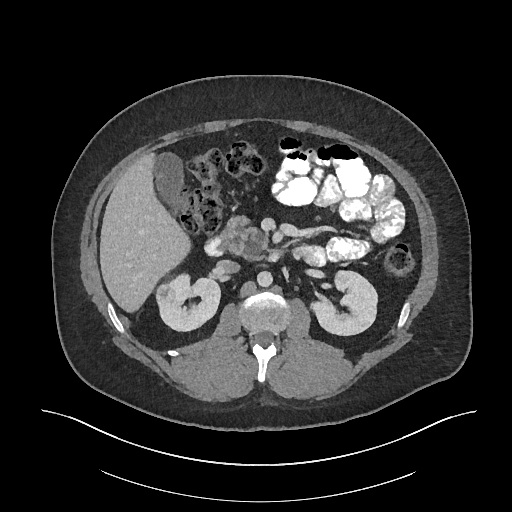Lesion: (154, 285, 182, 311)
